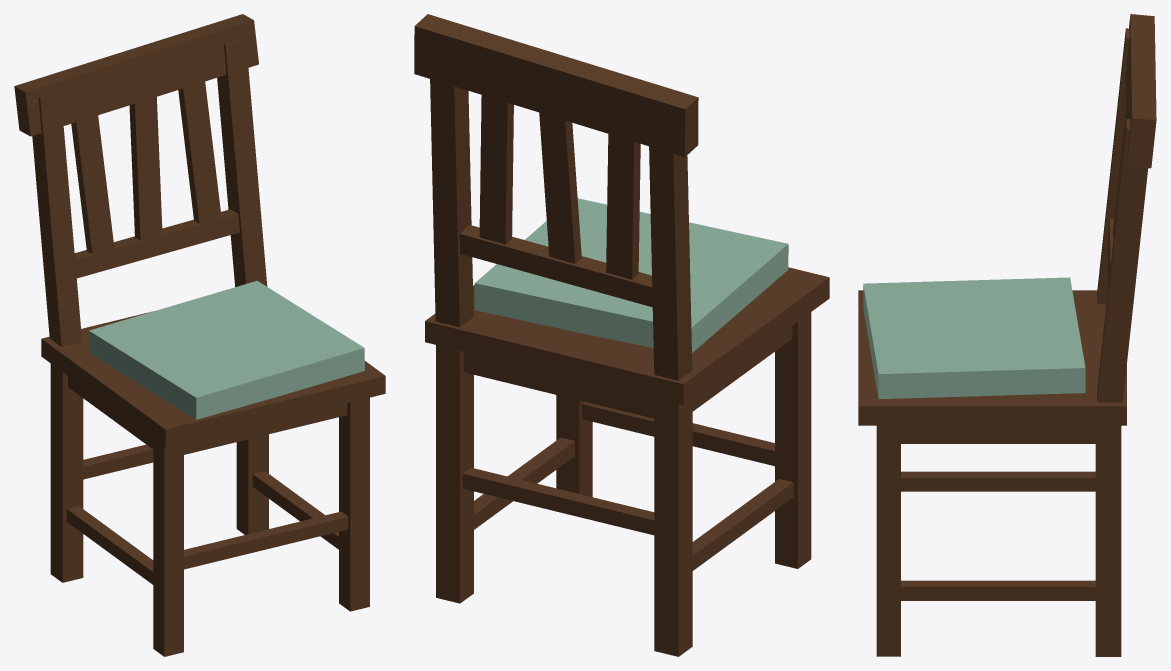
Rendered from Keukenstoel.glb.
The picture shows the model from 3 angles, left to right: view 1: azimuth 30°, elevation 25°; view 2: azimuth 150°, elevation 25°; view 3: azimuth 270°, elevation 25°; orthographic projection. The views are drawn at different scales.
Visible parts, largest first — view 1: ChairWood, Cushion; view 2: ChairWood, Cushion; view 3: ChairWood, Cushion.
Part boxes in pixels (x1=…): ChairWood: x1=14, y1=14, x2=385, y2=656; Cushion: x1=89, y1=280, x2=364, y2=419; ChairWood: x1=414, y1=14, x2=829, y2=656; Cushion: x1=474, y1=198, x2=788, y2=352; ChairWood: x1=858, y1=14, x2=1156, y2=656; Cushion: x1=863, y1=277, x2=1085, y2=399.
Size of the model in its own units: 0.4791 by 0.9762 by 0.4885.
